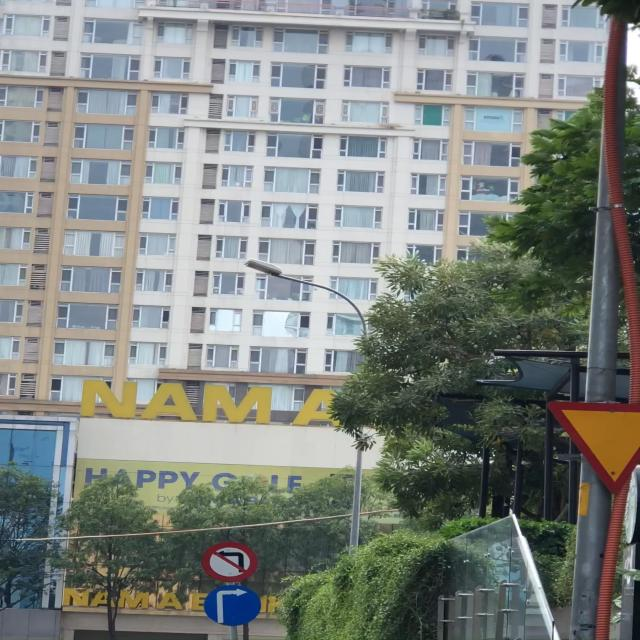Bien bao cam re trai: (198, 538, 266, 582)
Bien bao giao nhau voi duong uu tien: (547, 396, 640, 493)
Bien bao huong di phai theo: (202, 582, 262, 629)
